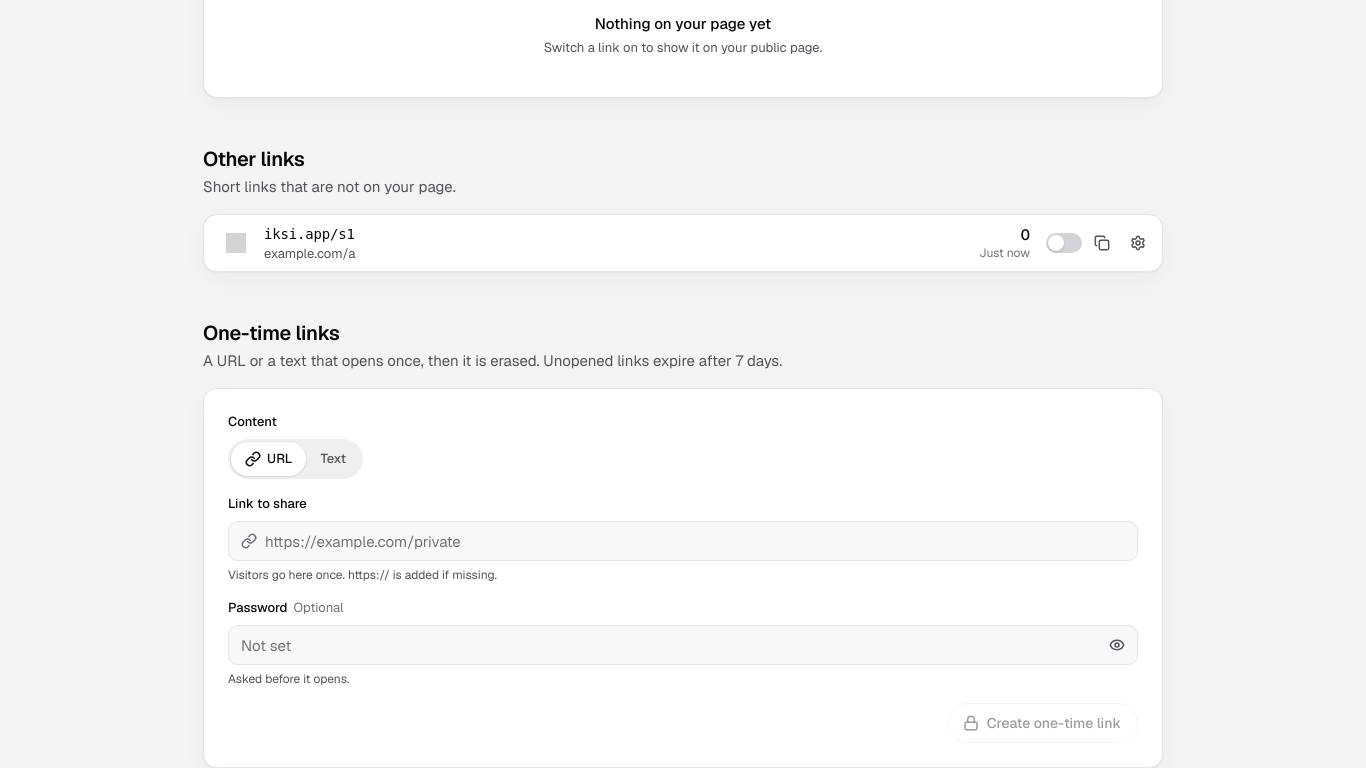
Test: links page one-time links › offers the one-time create form and adds the new row to the top
The image size is (1366, 768).
(page scrolled)
Type "example.com/doc" into the field labelled "Link to share" at (695, 541), box [265, 522, 1125, 560]
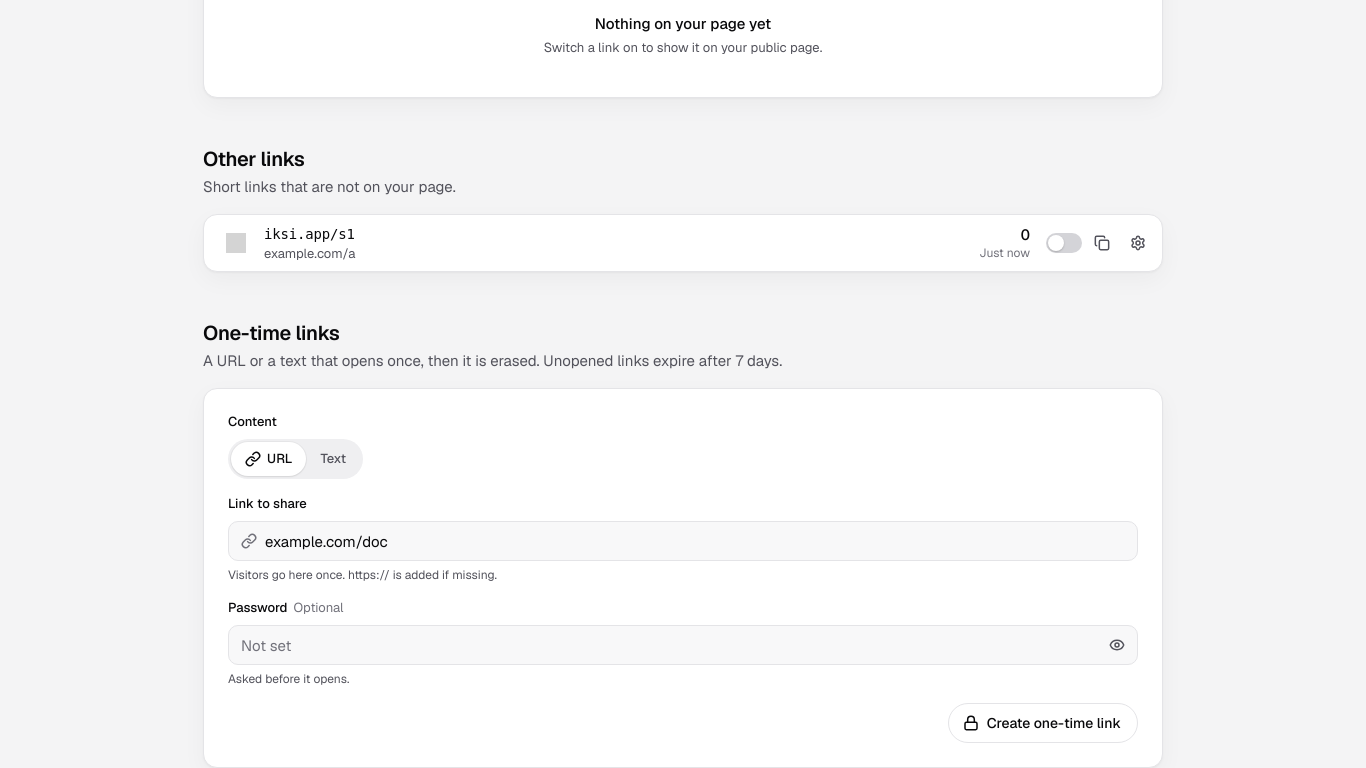
Click the button "Create one-time link" at (1043, 723), box [948, 703, 1138, 743]
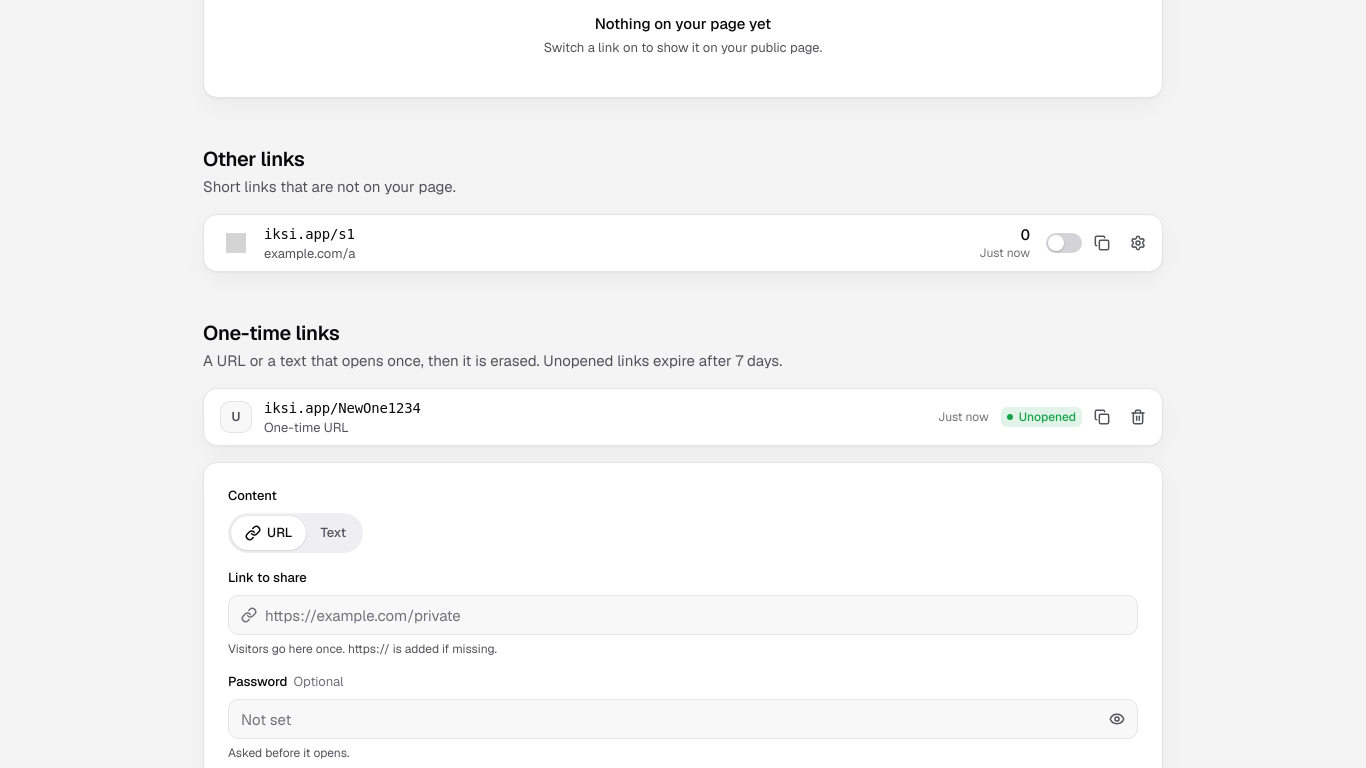
Result: the text "iksi.app/NewOne1234" is shown at [264, 400, 421, 416]
